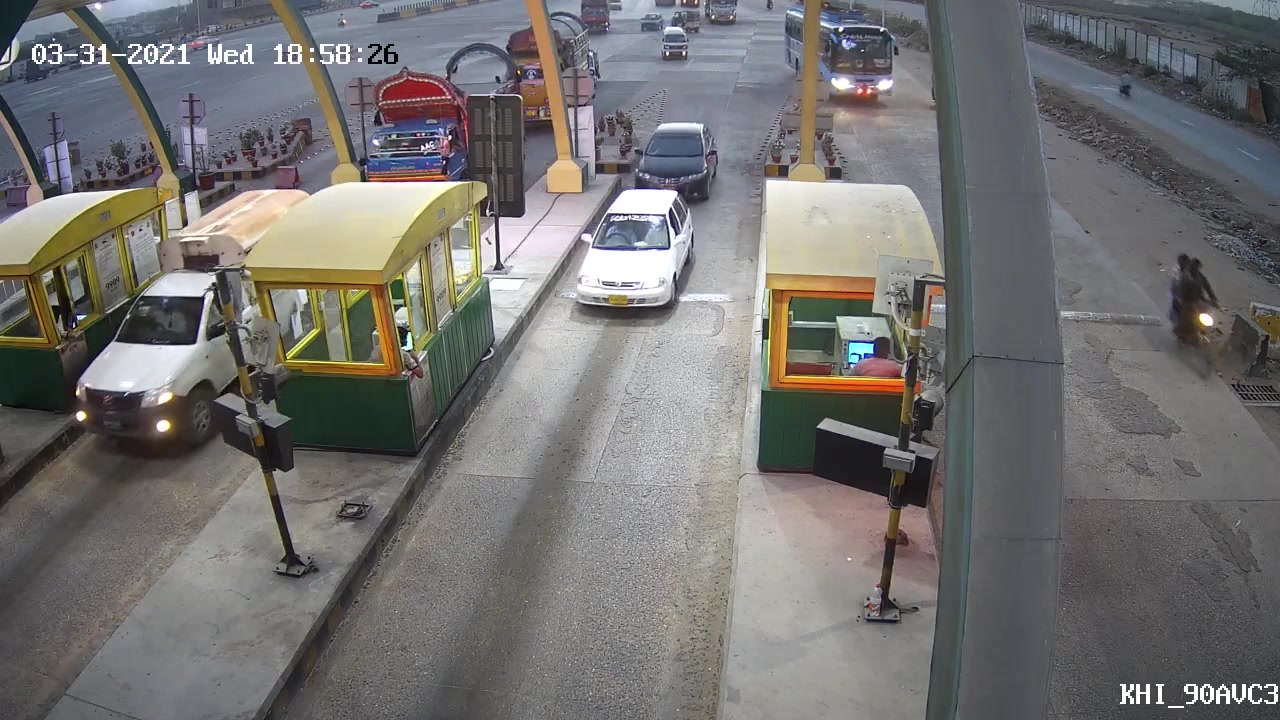F1: (568, 183, 694, 312)
